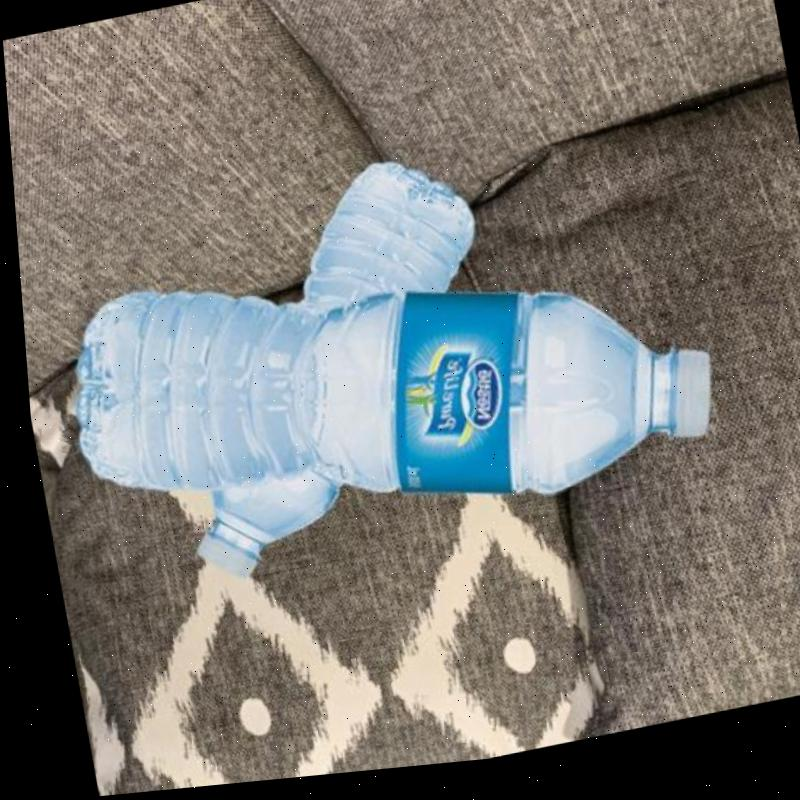botella: (36, 184, 729, 590), (130, 149, 524, 592)
